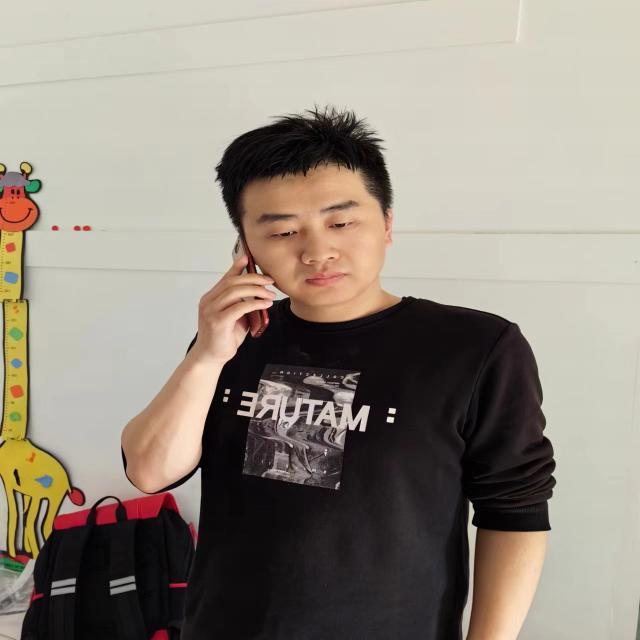phone: (231, 231, 270, 338)
